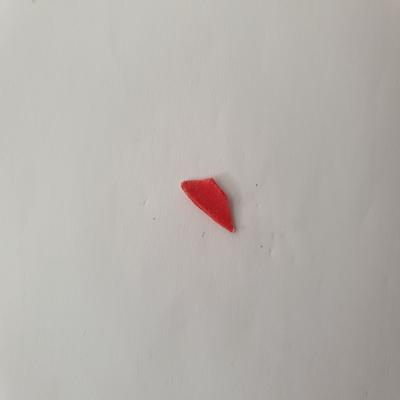plastic: (177, 176, 246, 239)
